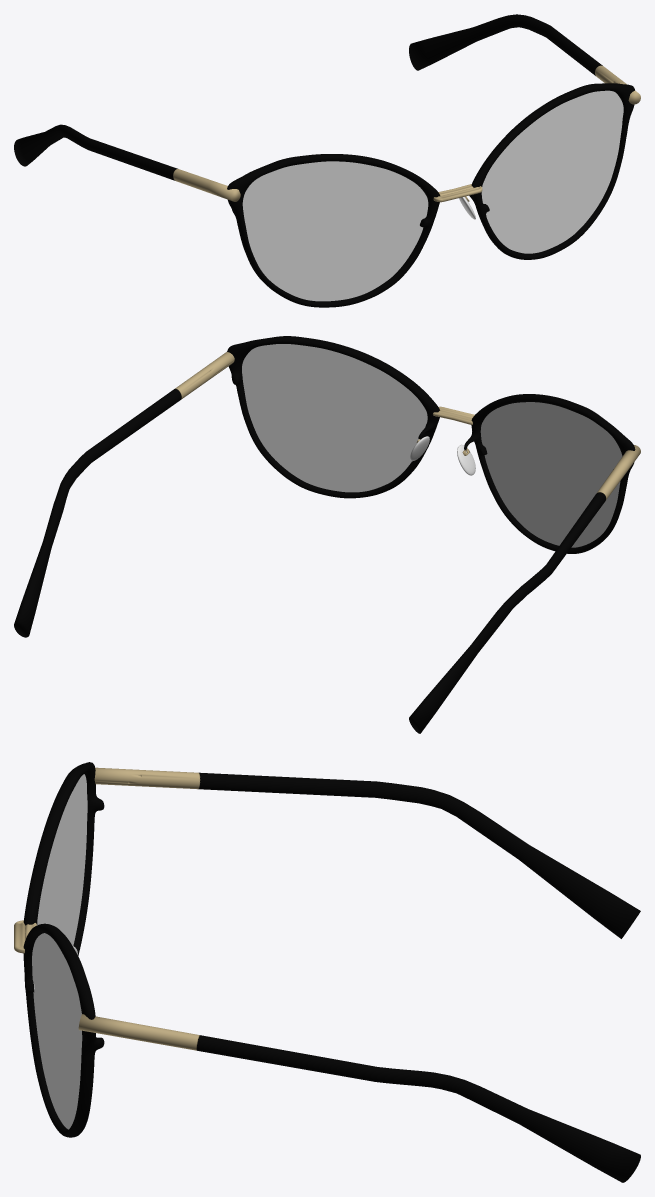
The model's file is glasses.fbx.
3 renders of one model, top to bottom at view 1: azimuth 30°, elevation 25°; view 2: azimuth 150°, elevation 25°; view 3: azimuth 270°, elevation 25°, orthographic. The views are drawn at different scales.
Parts seen in each view (by area): view 1: glass, glasses; view 2: glass, glasses, burun; view 3: glasses, glass.
Part boxes in pixels (<box>): glass: <box>242,90,623,301</box>; glasses: <box>14,14,640,307</box>; glass: <box>242,344,622,547</box>; glasses: <box>14,336,640,733</box>; burun: <box>410,436,475,475</box>; glasses: <box>14,762,640,1182</box>; glass: <box>32,774,87,1129</box>.
Size of what is drawn, in the model's own units: 15.61 by 4.93 by 14.26.
Materials: 3 (1 with a texture image).
